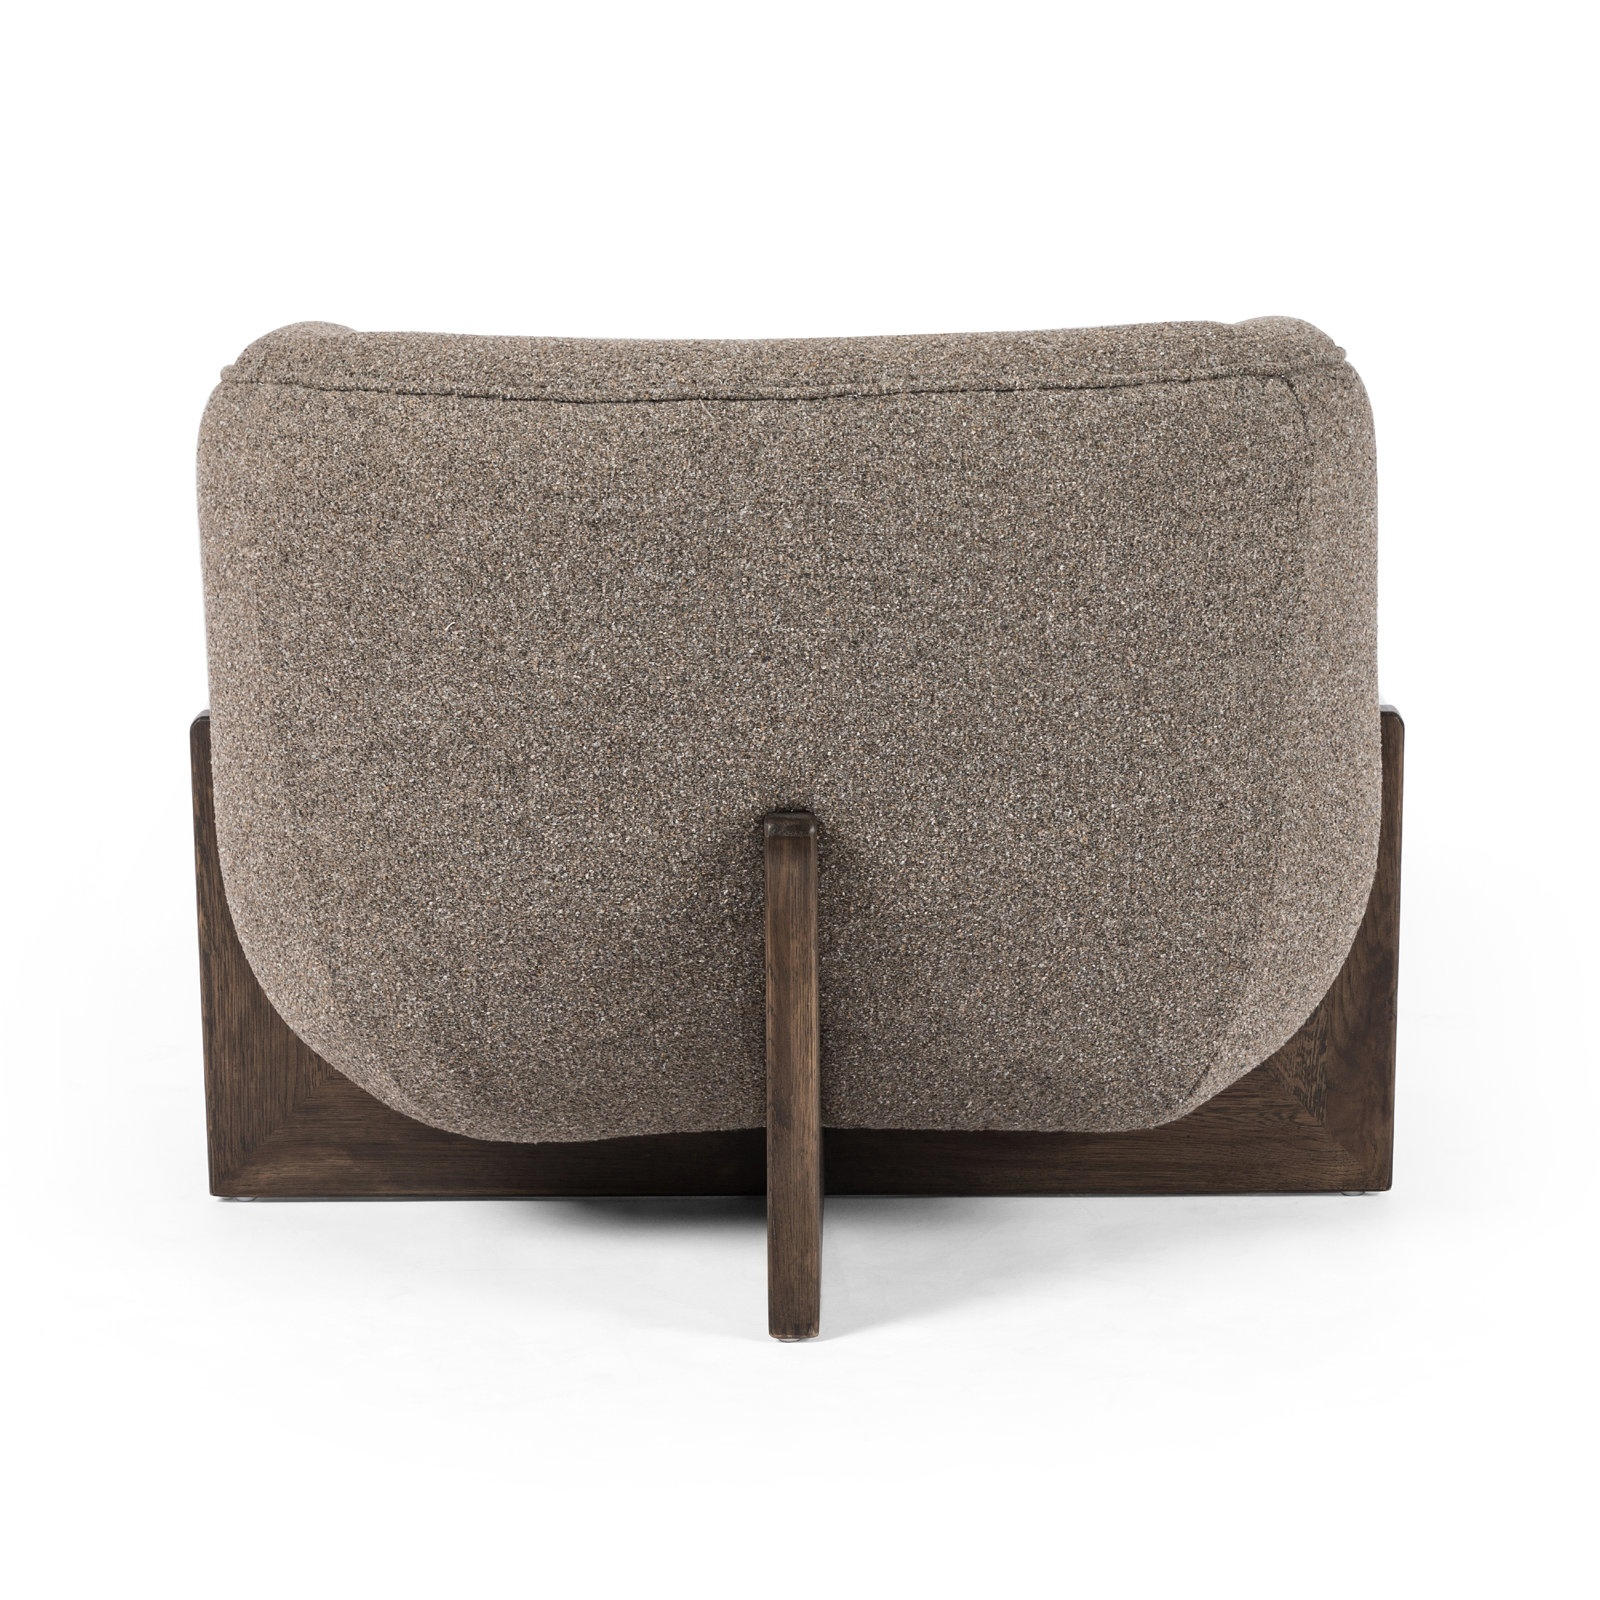obstacle: (196, 318, 1398, 1196)
